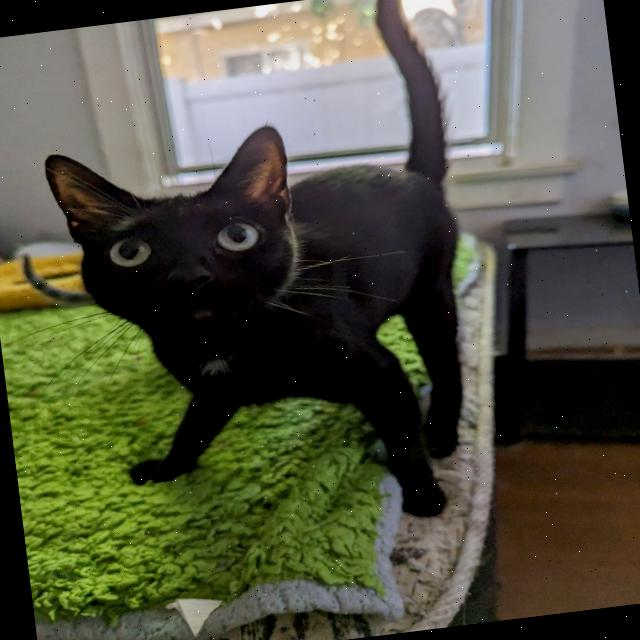bombay_cat: (32, 107, 348, 384)
